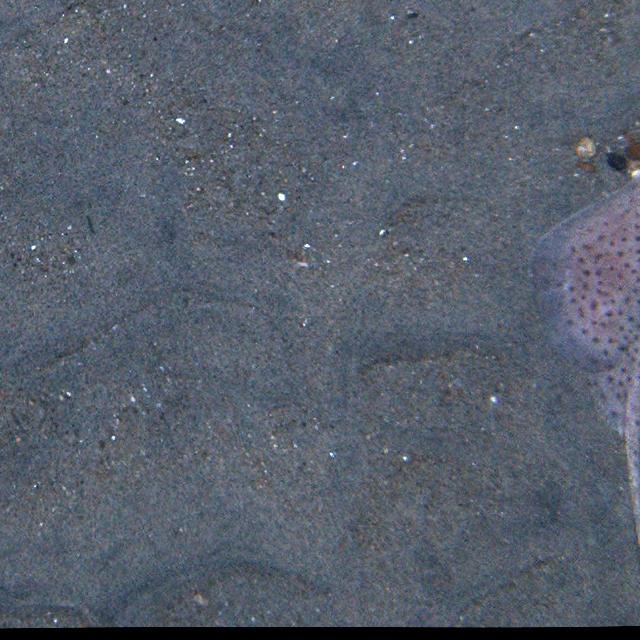skate: (518, 155, 640, 544)
